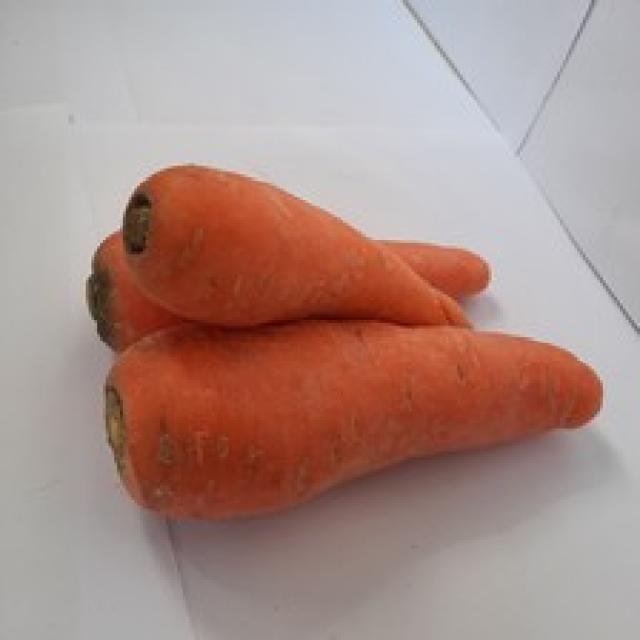Fresh_Carrot: (118, 330, 610, 531), (144, 161, 471, 331), (107, 234, 500, 335)
